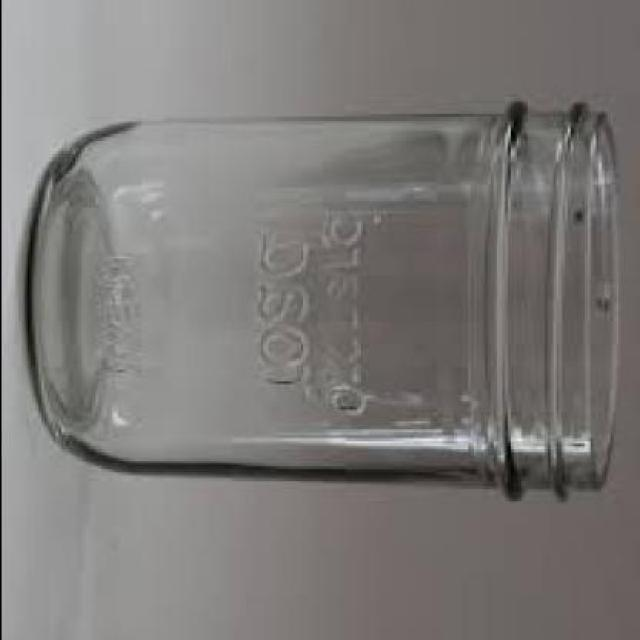GLASS: (28, 105, 622, 504)
